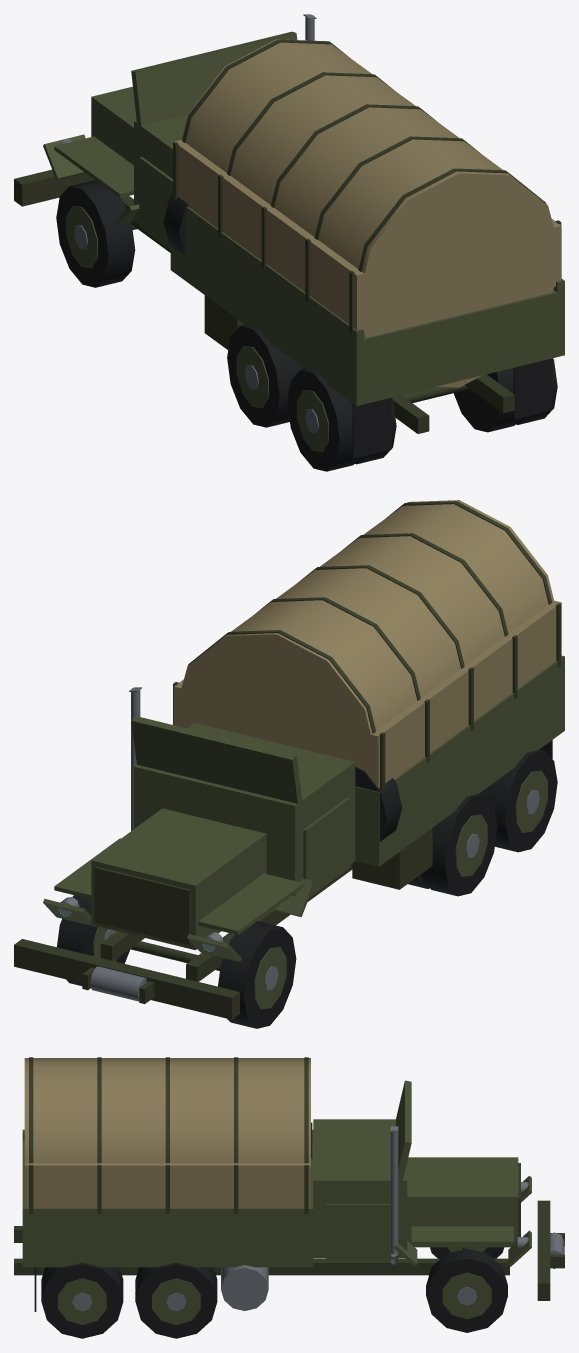
Rendered from m35-deuce-a-half.glb.
3 renders of one model, top to bottom at view 1: azimuth 30°, elevation 25°; view 2: azimuth 150°, elevation 25°; view 3: azimuth 270°, elevation 25°, orthographic. The views are drawn at different scales.
Visible parts, largest first — view 1: Mesh_CanvasTop, Mesh_CanvasMain, Mesh_BedSideL, Mesh_BedTailgate, Mesh_WindshieldFrame, Mesh_Tire_FL, Mesh_BedFloor, Mesh_Tire_RL2_O, Mesh_Tire_RL1_O, Mesh_FenderL_Top, Mesh_Hood, Mesh_Cabin (+20 smaller); view 2: Mesh_CanvasTop, Mesh_CanvasMain, Mesh_Cabin, Mesh_BedSideL, Mesh_Hood, Mesh_WindshieldFrame, Mesh_Grille, Mesh_Bumper, Mesh_Tire_FL, Mesh_Tire_RL1_O, Mesh_Tire_RL2_O, Mesh_DoorL (+21 smaller); view 3: Mesh_CanvasTop, Mesh_BedSideR, Mesh_CanvasMain, Mesh_Hood, Mesh_Cabin, Mesh_Tire_FR, Mesh_DoorR, Mesh_Tire_RR1_O, Mesh_Tire_RR2_O, Mesh_ChassisR, Mesh_BedFloor, Mesh_FenderR_Top (+14 smaller).
Boxes of the visible parts, x1,y1,x2,y2 form: Mesh_CanvasTop: (181,39,561,387); Mesh_CanvasMain: (174,140,561,333); Mesh_BedSideL: (176,207,363,400); Mesh_BedTailgate: (364,290,557,396); Mesh_WindshieldFrame: (131,31,297,135); Mesh_Tire_FL: (56,180,135,287); Mesh_BedFloor: (170,265,564,405); Mesh_Tire_RL2_O: (287,369,359,471); Mesh_Tire_RL1_O: (227,325,303,427); Mesh_FenderL_Top: (54,136,133,197); Mesh_Hood: (91,86,136,165); Mesh_Cabin: (134,115,187,223); Mesh_CanvasTop: (174,500,553,781); Mesh_CanvasMain: (173,600,561,788); Mesh_Cabin: (134,722,355,896); Mesh_BedSideL: (371,655,564,860); Mesh_Hood: (91,808,266,950); Mesh_WindshieldFrame: (131,716,303,812); Mesh_Grille: (94,866,190,945); Mesh_Bumper: (14,939,239,1019); Mesh_Tire_FL: (218,921,296,1028); Mesh_Tire_RL1_O: (421,793,497,896); Mesh_Tire_RL2_O: (481,749,557,852); Mesh_DoorL: (303,797,349,896); Mesh_CanvasTop: (24,1058,310,1162); Mesh_BedSideR: (22,1206,313,1263); Mesh_CanvasMain: (24,1163,310,1208); Mesh_Hood: (407,1157,518,1247); Mesh_Cabin: (313,1119,407,1258); Mesh_Tire_FR: (426,1248,507,1332); Mesh_DoorR: (326,1204,394,1259); Mesh_Tire_RR1_O: (135,1262,217,1338); Mesh_Tire_RR2_O: (41,1262,123,1338); Mesh_ChassisR: (14,1258,509,1275); Mesh_BedFloor: (22,1259,313,1267); Mesh_FenderR_Top: (411,1226,513,1244).
Bounding box in the file's own units: 2.36 × 2.99 × 6.45.
Materials: 2 (2 with a texture image).
